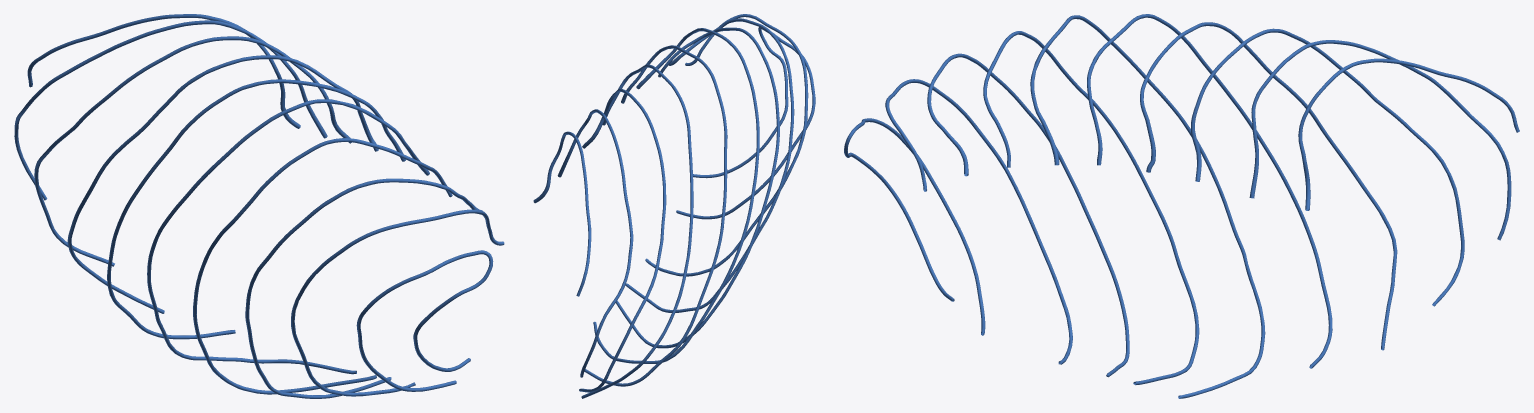
3 renders of one model, left to right at view 1: azimuth 30°, elevation 25°; view 2: azimuth 150°, elevation 25°; view 3: azimuth 270°, elevation 25°, orthographic. The views are drawn at different scales.
Visible parts, largest first — view 1: 右肋间上静脉; view 2: 右肋间上静脉; view 3: 右肋间上静脉.
Part boxes in pixels (x1=…): 右肋间上静脉: x1=14, y1=14, x2=504, y2=398; 右肋间上静脉: x1=533, y1=14, x2=815, y2=398; 右肋间上静脉: x1=844, y1=14, x2=1519, y2=398.
Bounding box in the file's own units: 0.1875 × 0.2898 × 0.5253.
